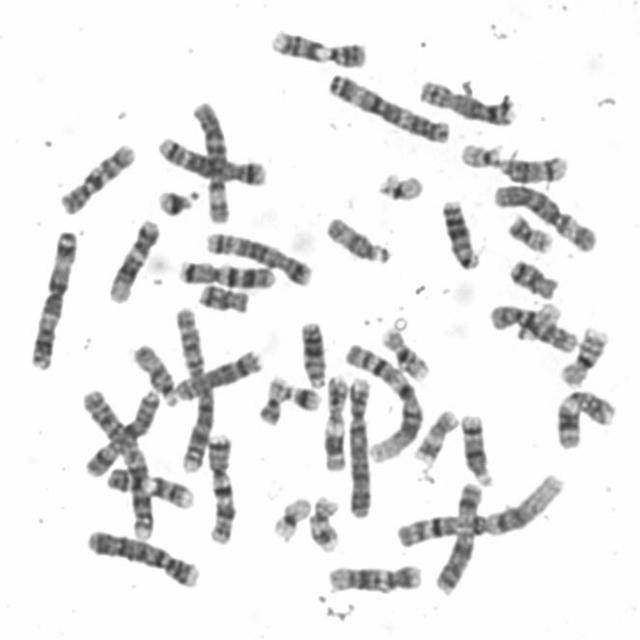A1: (388, 465, 568, 549), (340, 335, 428, 465)
A2: (76, 383, 158, 543), (168, 298, 216, 475)
A3: (321, 64, 454, 144), (23, 222, 80, 371)
B4: (80, 522, 203, 590), (342, 370, 374, 519)
B5: (199, 224, 315, 287), (152, 128, 268, 187)
C10: (53, 135, 138, 217), (484, 297, 580, 355)
C11: (549, 381, 618, 450), (316, 369, 351, 473)
C12: (102, 212, 162, 304), (320, 556, 425, 595)
C6: (488, 175, 600, 254), (185, 93, 233, 225)
C7: (201, 426, 238, 546), (173, 252, 278, 290)
C8: (168, 342, 264, 402), (414, 72, 518, 127)
C9: (101, 460, 197, 512), (264, 22, 370, 68)
D13: (435, 192, 483, 270), (294, 313, 330, 388)
D14: (455, 406, 496, 488), (486, 148, 570, 185)
D15: (319, 209, 394, 265), (128, 337, 182, 407)
E16: (554, 320, 611, 388), (376, 320, 432, 382)
E17: (408, 402, 460, 465), (303, 489, 343, 554)
E18: (503, 252, 561, 301), (193, 276, 252, 316)
F19: (265, 490, 313, 542), (371, 165, 426, 203)
F20: (502, 208, 555, 254), (252, 369, 290, 426)
G21: (152, 180, 202, 218), (280, 377, 323, 413)
G22: (510, 296, 562, 342), (454, 134, 505, 169)
X: (79, 383, 162, 480), (428, 474, 486, 596)
